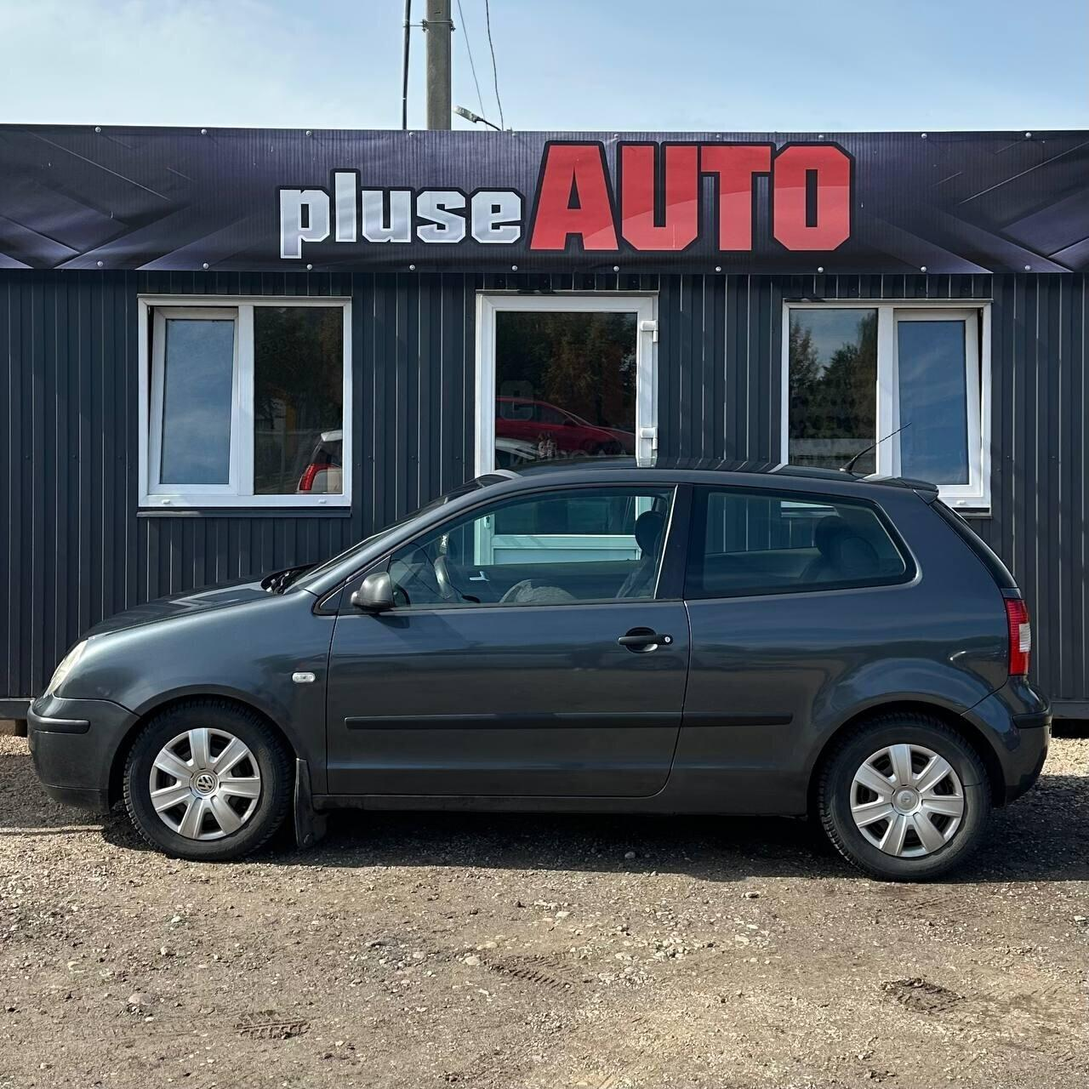Polo_2001-2005: (28, 456, 1057, 912)
